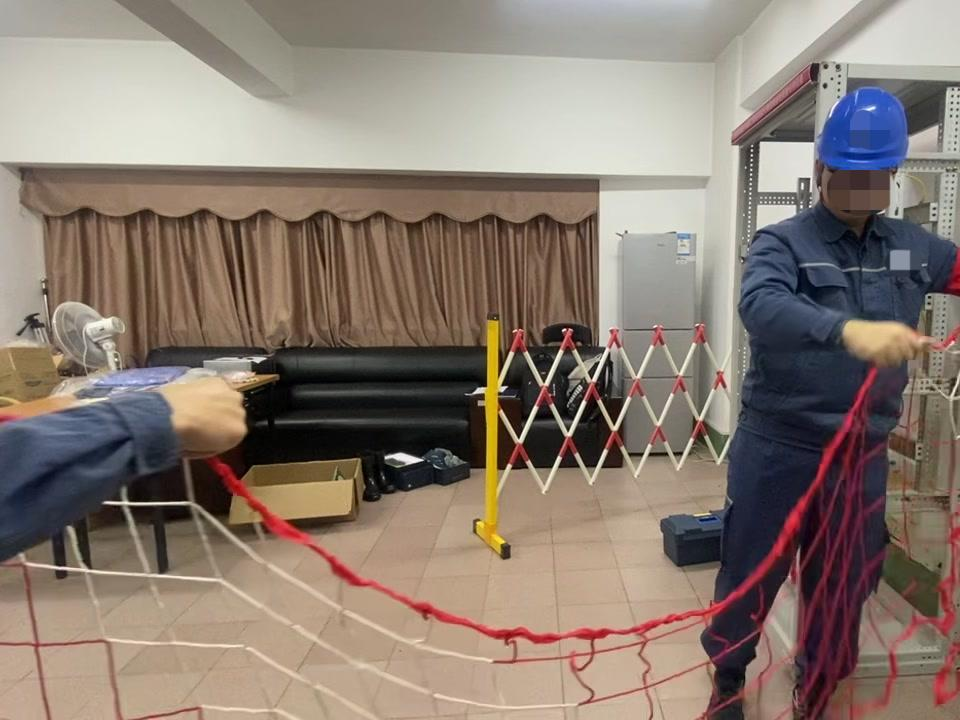halt: (814, 88, 914, 222)
